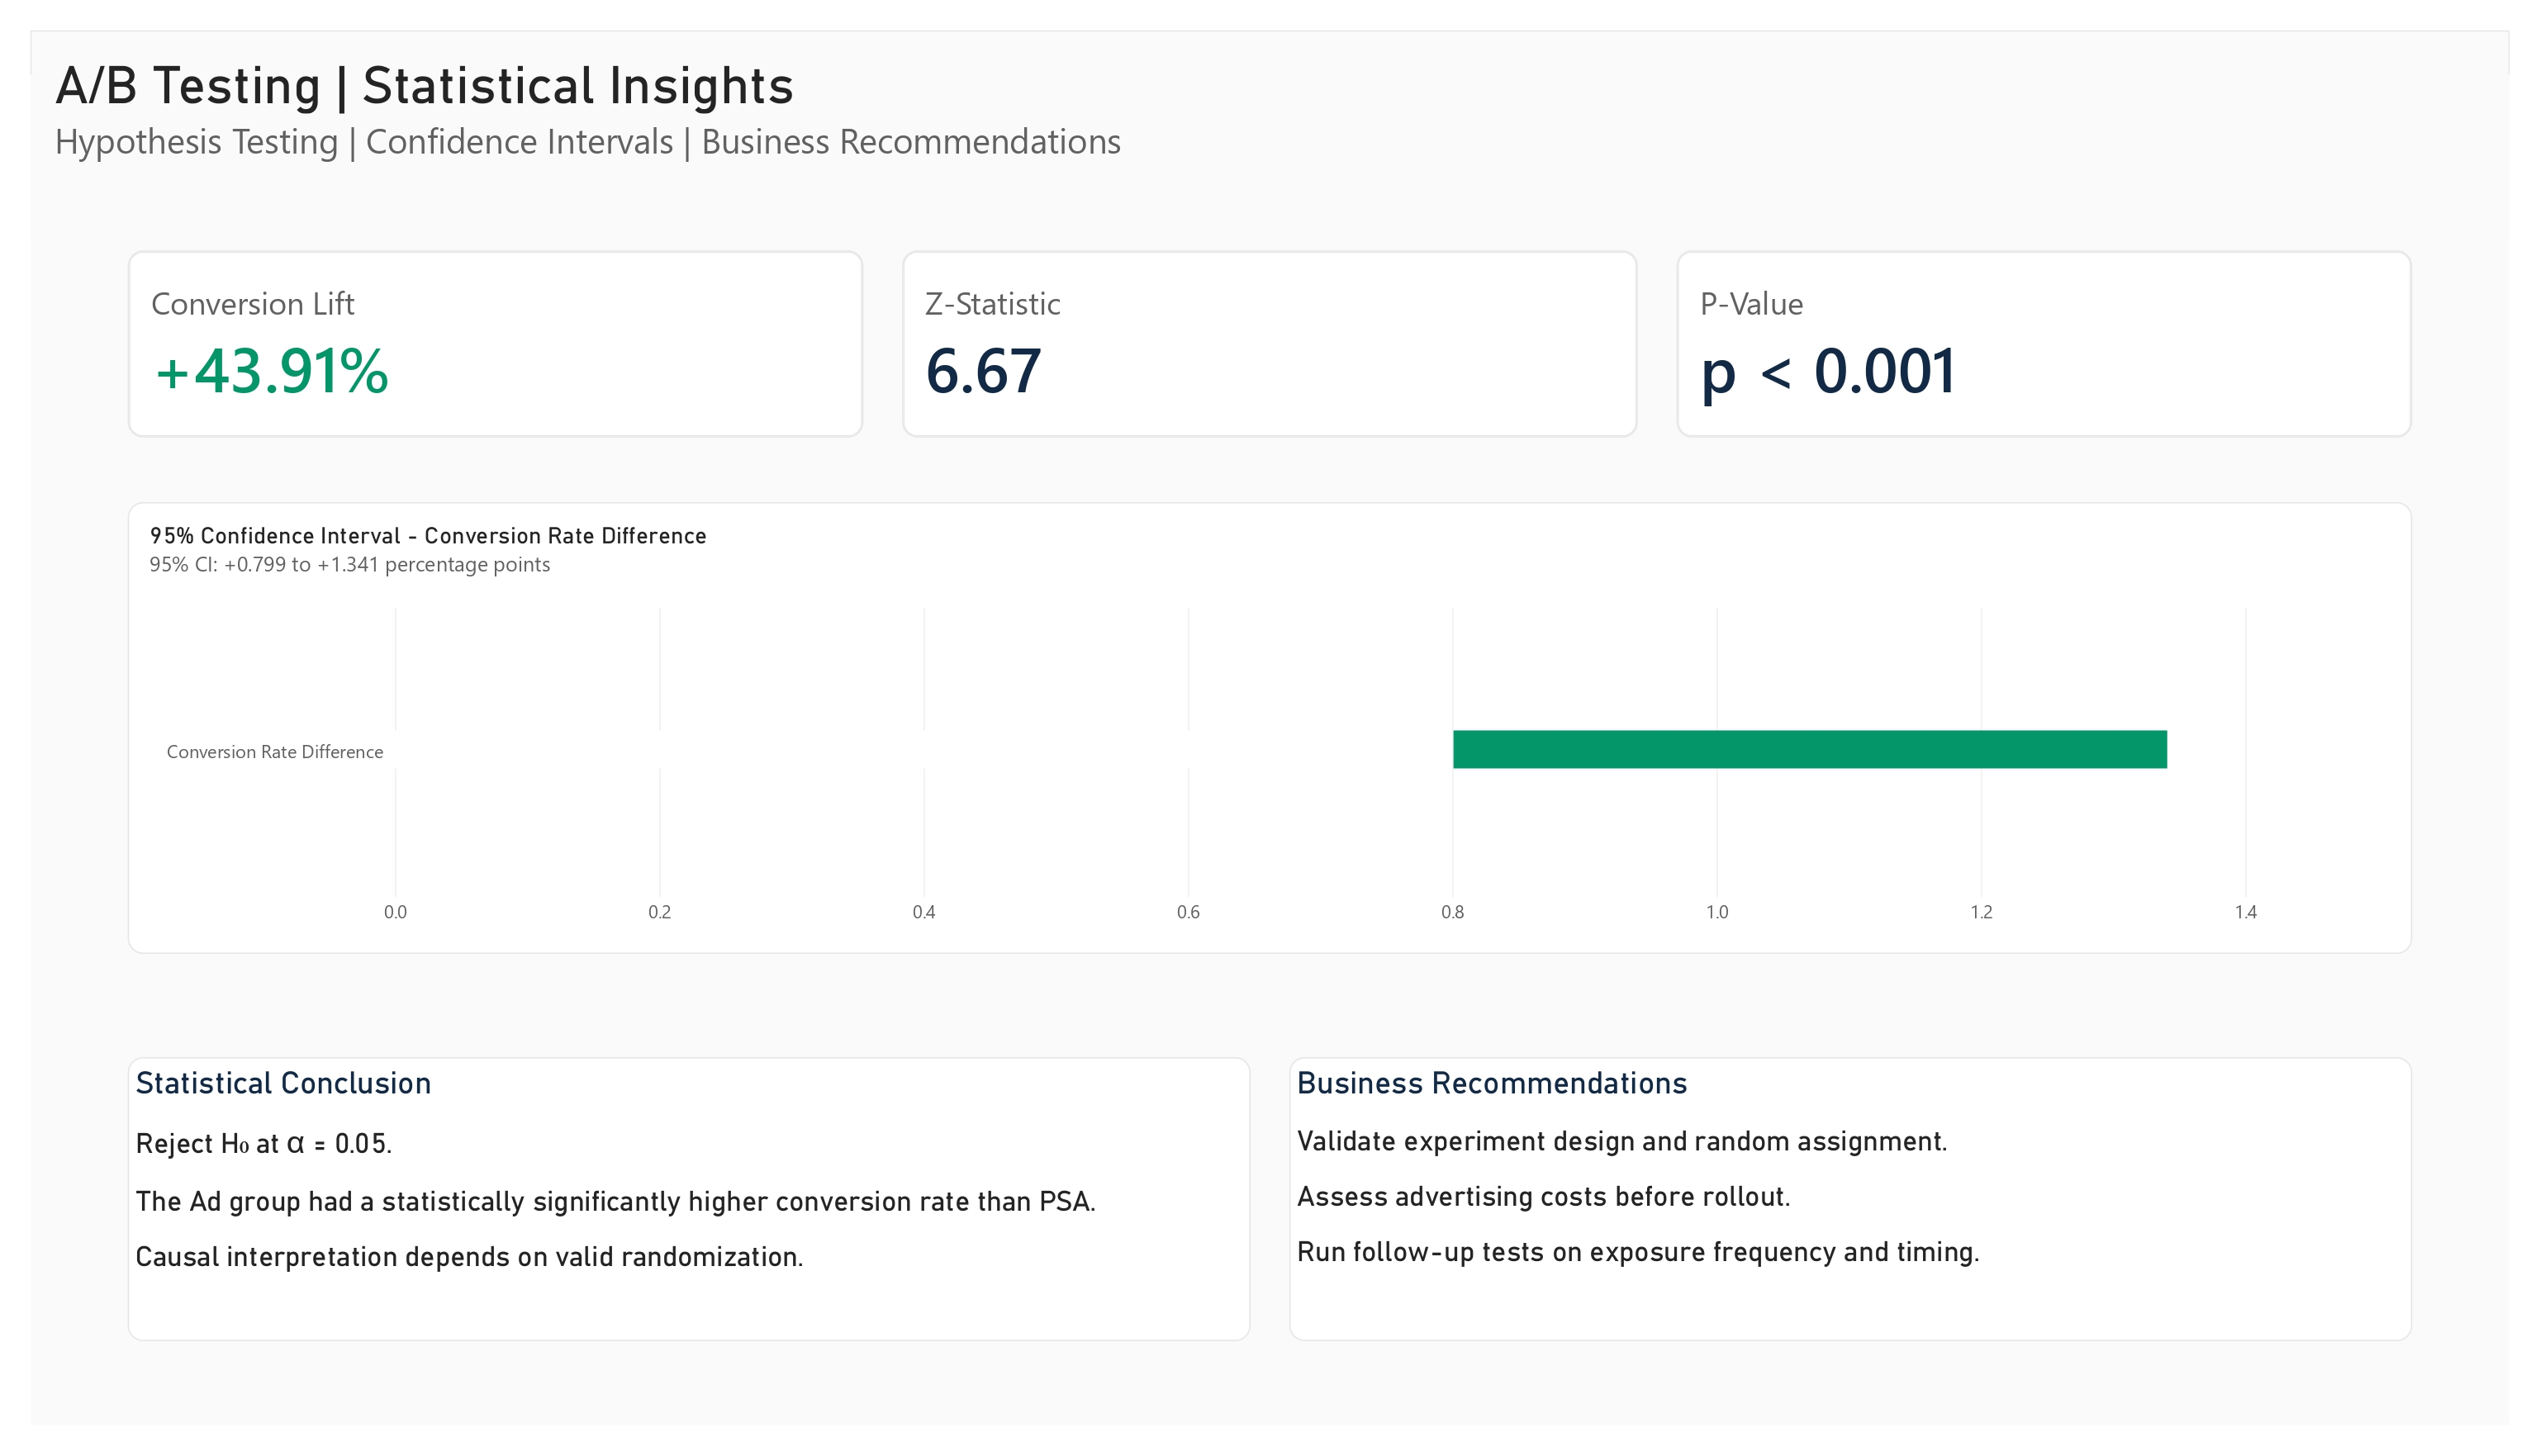

Layout of this report page (visuals, bound fields, positions):
{"tool":"powerbi","page":{"name":"Statistical Insights","canvas":[1920,1080],"ordinal":2},"visuals":[{"type":"textbox","title":"A/B Testing | Statistical Insights","box":[17.5,17.5,1885,135],"z":0},{"type":"cardVisual","fields":{"Data":["marketing_campaign.Conversion Lift"]},"box":[75,170,570,145],"z":1000},{"type":"cardVisual","fields":{"Data":["marketing_campaign.Z-Statistic"]},"box":[675,170,570,145],"z":2000},{"type":"cardVisual","fields":{"Data":["marketing_campaign.P-Value"]},"box":[1275,170,570,145],"z":3000},{"type":"barChart","title":"95% Confidence Interval - Conversion Rate Difference","fields":{"Category":["AB_Test_Confidence_Interval.Metric"],"Y":["AB_Test_Confidence_Interval.CI Start","AB_Test_Confidence_Interval.CI Width"]},"box":[75,365,1770,350],"z":4000},{"type":"textbox","title":"Statistical Conclusion","box":[75,795,870,220],"z":5000},{"type":"textbox","title":"Statistical Conclusion","box":[975,795,870,220],"z":6000}]}

Visuals, with their boxes on the page's 1920x1080 design canvas (x1, y1, x2, y2). These are canvas units, not pixel positions in the 2540x1456 screenshot, which may show the page scaled, cropped or inside an application window:
"A/B Testing | Statistical Insights" textbox: locate(18, 18, 1902, 152)
cardVisual - marketing_campaign.Conversion Lift: locate(75, 170, 645, 315)
cardVisual - marketing_campaign.Z-Statistic: locate(675, 170, 1245, 315)
cardVisual - marketing_campaign.P-Value: locate(1275, 170, 1845, 315)
"95% Confidence Interval - Conversion Rate Difference" barChart: locate(75, 365, 1845, 715)
"Statistical Conclusion" textbox: locate(75, 795, 945, 1015)
"Statistical Conclusion" textbox: locate(975, 795, 1845, 1015)
